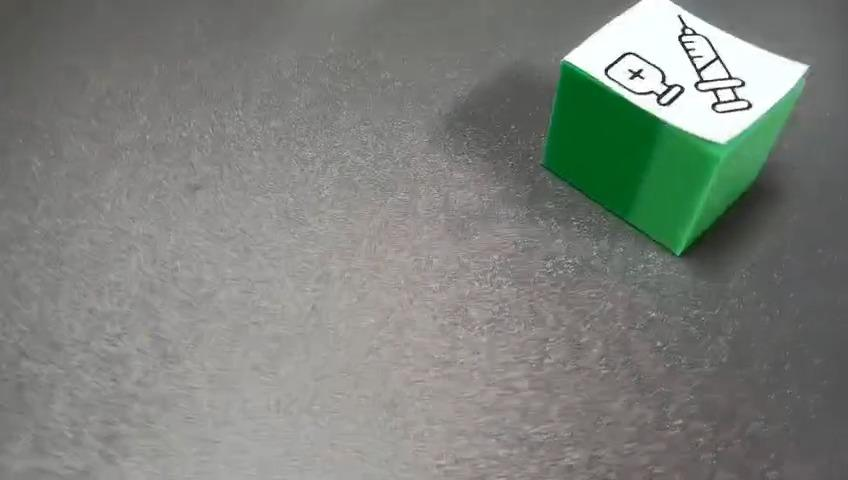antiseptic cream: (539, 0, 811, 256)
